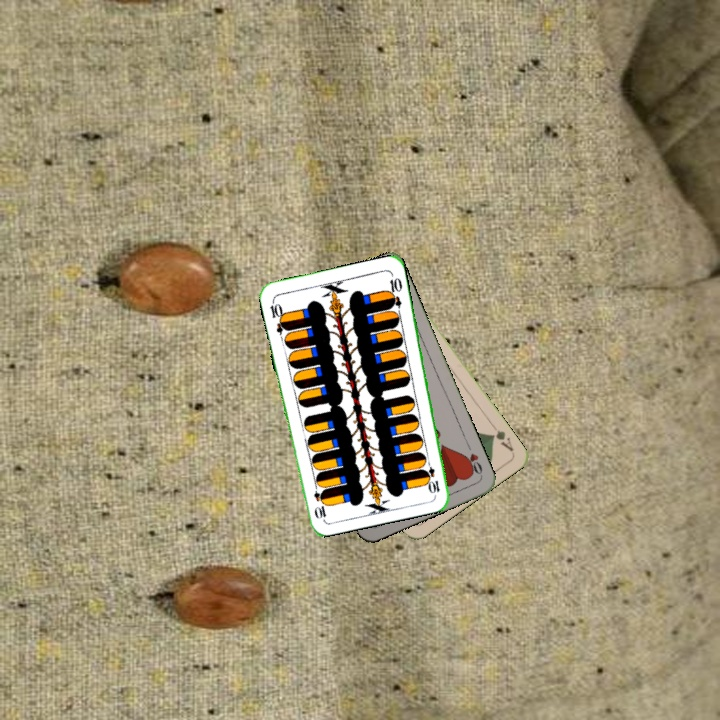E10: (266, 296, 289, 336), (422, 455, 442, 496)
GA: (487, 420, 516, 454)
HO: (460, 439, 485, 477)
